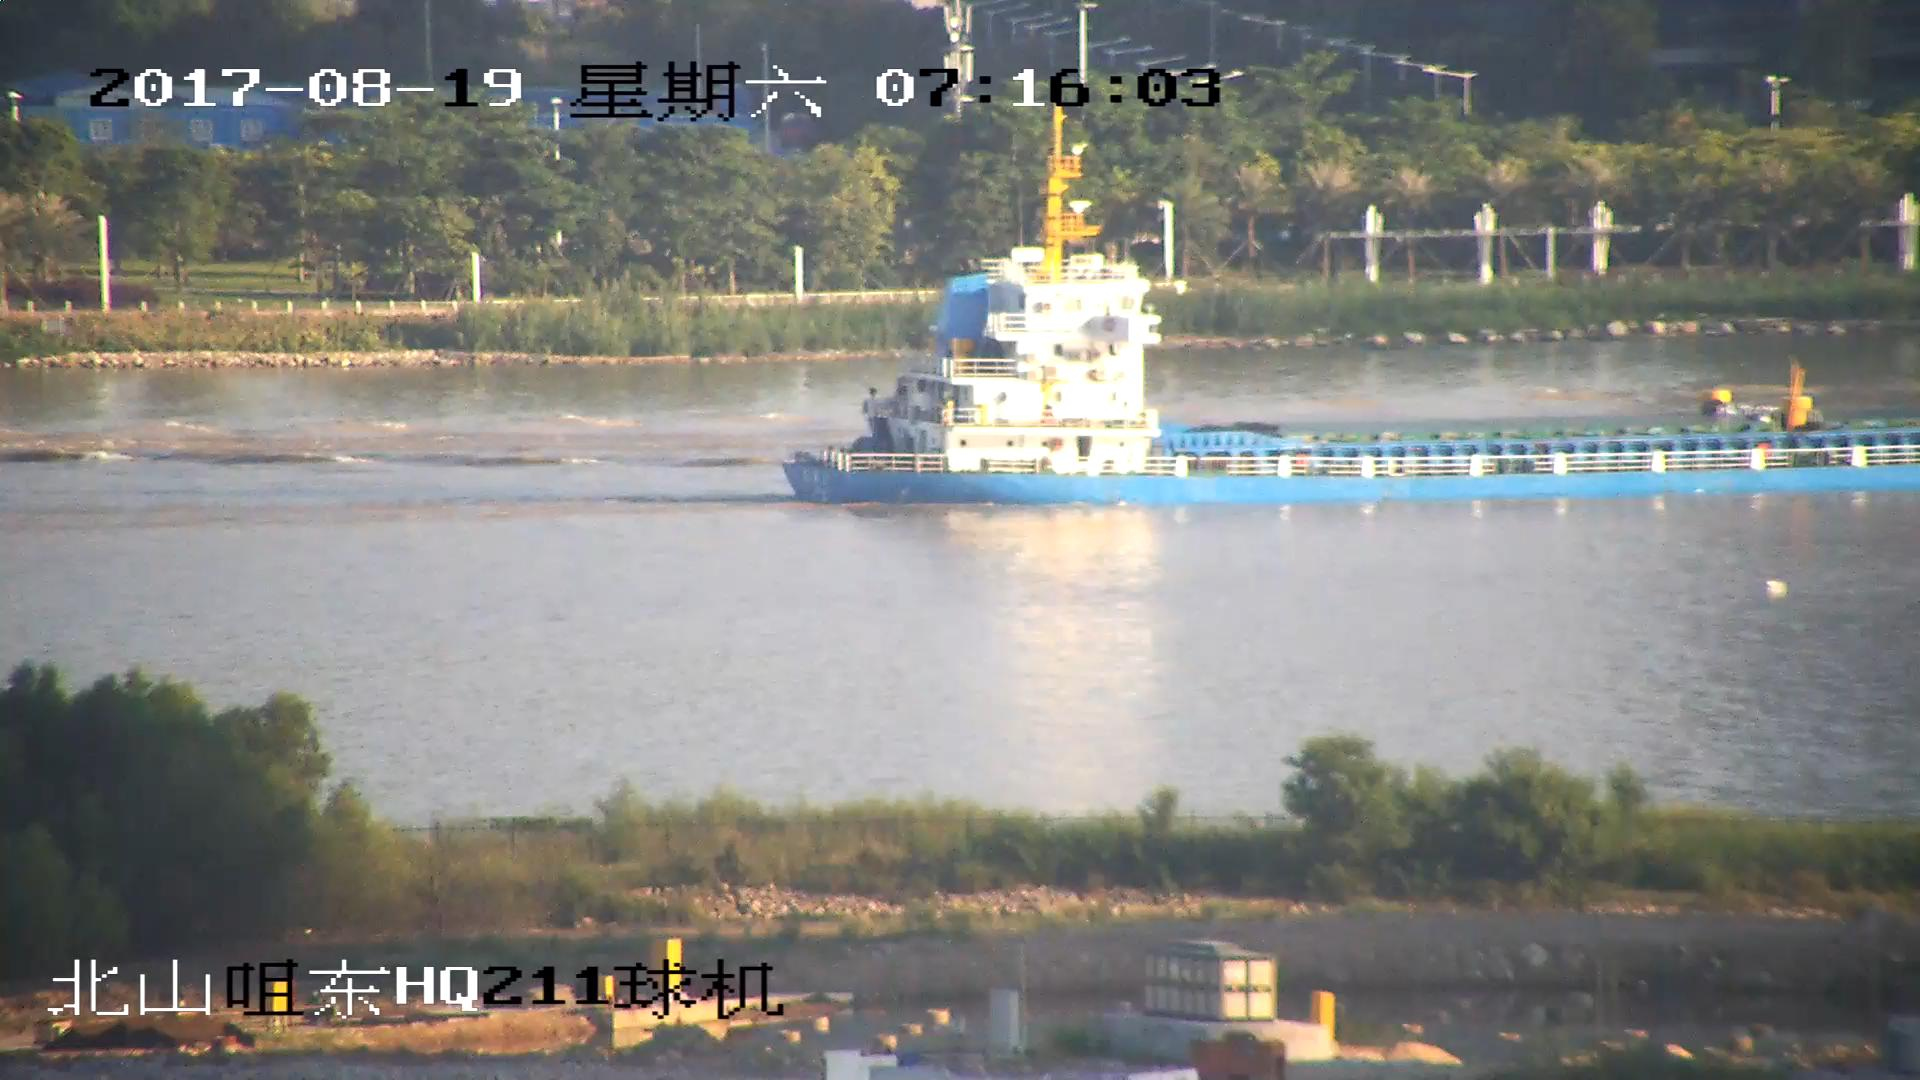general cargo ship: (777, 121, 1920, 504)
